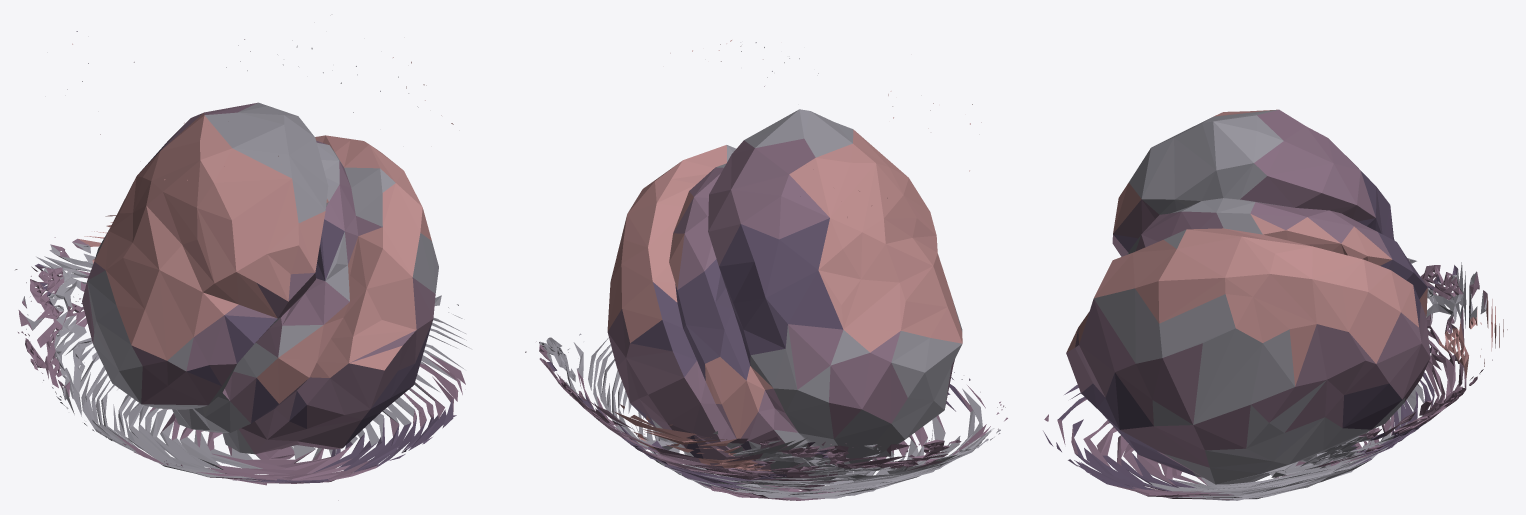
File: rock_silver.glb
3 renders of one model, left to right at view 1: azimuth 30°, elevation 25°; view 2: azimuth 150°, elevation 25°; view 3: azimuth 270°, elevation 25°, orthographic. The views are drawn at different scales.
Visible parts, largest first — view 1: geometry_0; view 2: geometry_0; view 3: geometry_0.
Boxes of the visible parts, x1,y1,x2,y2 form: geometry_0: (15,31,470,500); geometry_0: (525,40,1007,500); geometry_0: (1043,109,1507,500).
Size of the model in its own units: 1.98 by 1.89 by 1.98.
